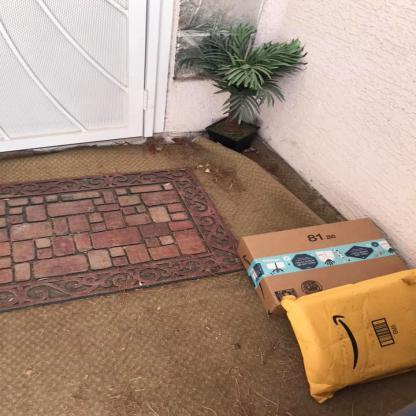package: (237, 215, 411, 319), (283, 268, 416, 402)
